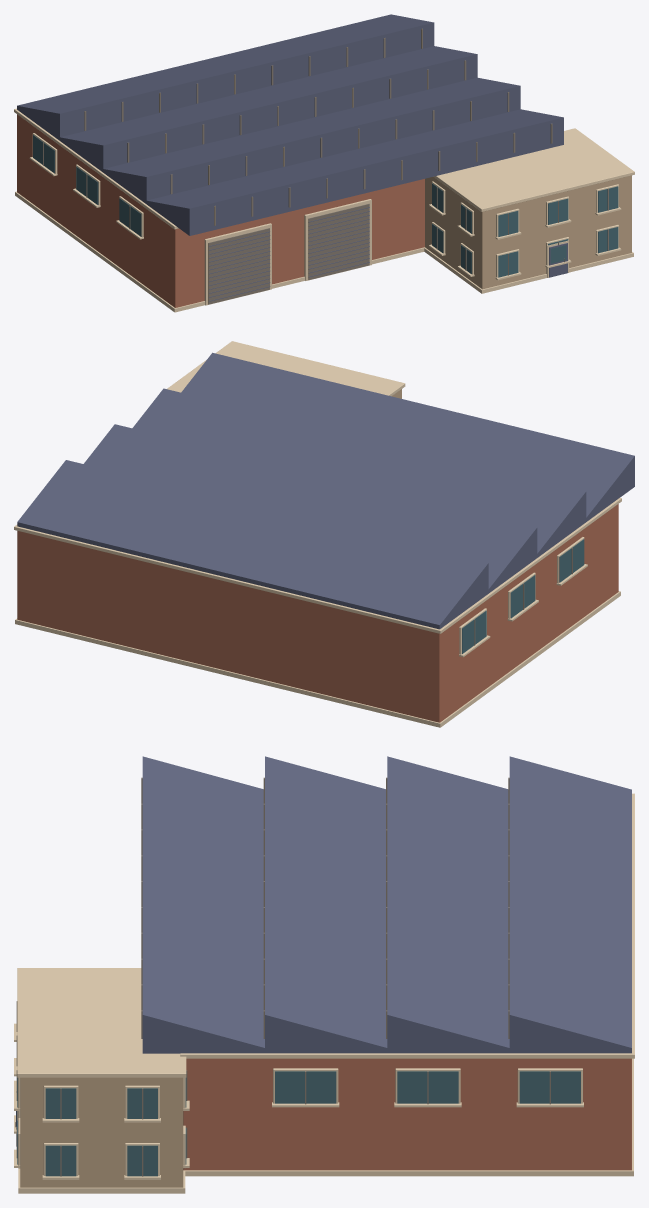
The model's file is factory-with-office.glb.
3 renders of one model, top to bottom at view 1: azimuth 30°, elevation 25°; view 2: azimuth 150°, elevation 25°; view 3: azimuth 270°, elevation 25°, orthographic. The views are drawn at different scales.
Parts seen in each view (by area): view 1: factory-with-office; view 2: factory-with-office; view 3: factory-with-office.
Part boxes in pixels (x1=…): factory-with-office: x1=14, y1=14, x2=634, y2=312; factory-with-office: x1=14, y1=341, x2=634, y2=727; factory-with-office: x1=14, y1=756, x2=634, y2=1193.
Size of the model in its own units: 32.63 by 8.7 by 30.46.
